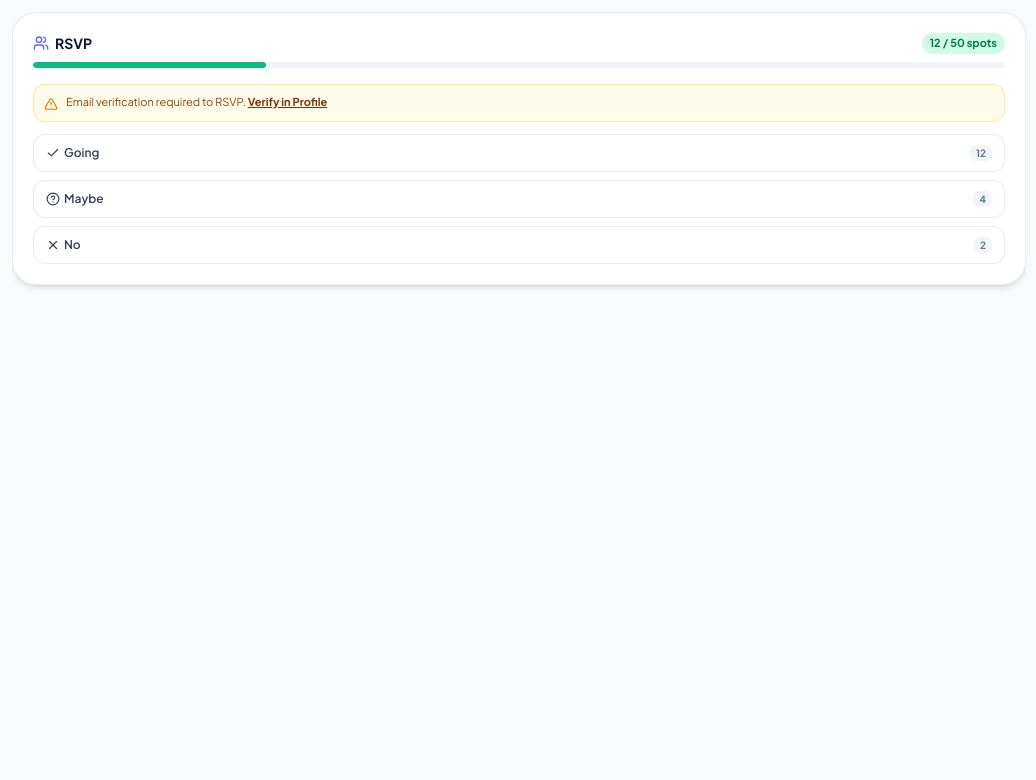
Test: RsvpButtonGroup Component › redirects unverified user to /profile with highlightEmailVerification state when clicking RSVP button
Step 1. Click the button "Going 12" → x=82, y=152, box [33,134,1005,172]
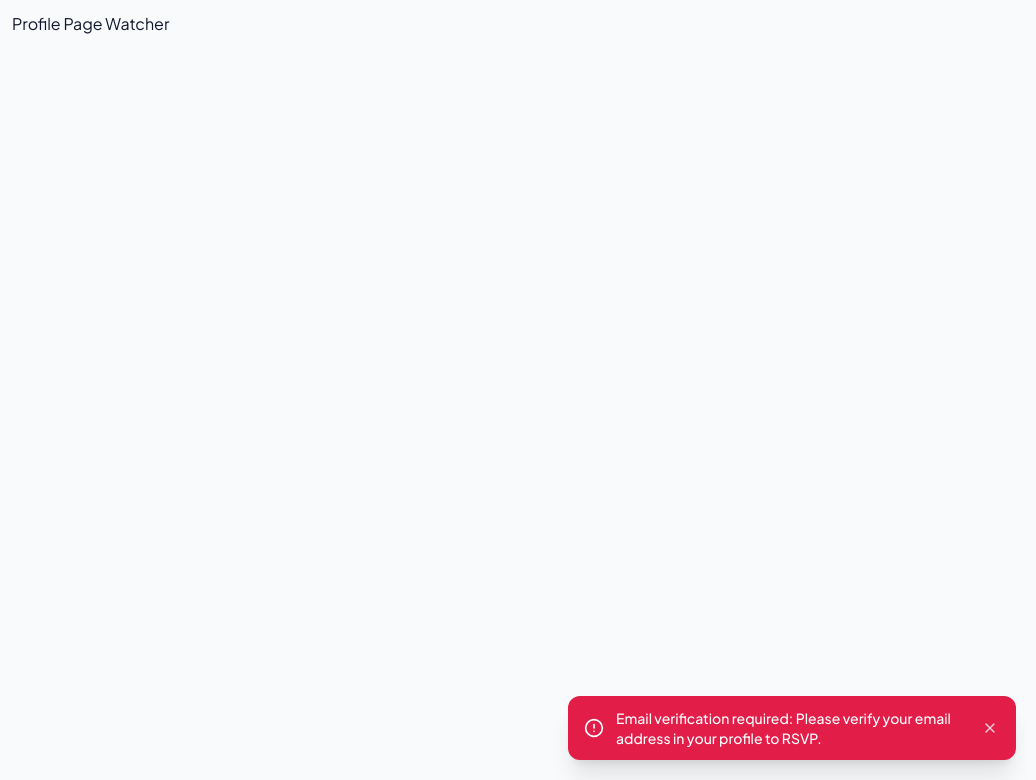
Expected: the text "Profile Page Watcher" is shown, [12,13,169,34]
Expected: the text "Please verify your email address in your profile to RSVP" is shown, [616,709,951,747]
